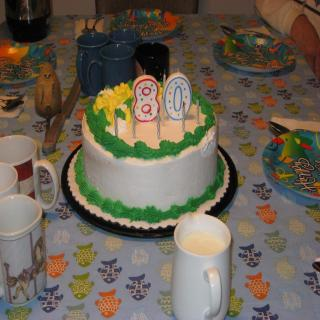Cake: (67, 80, 226, 230)
